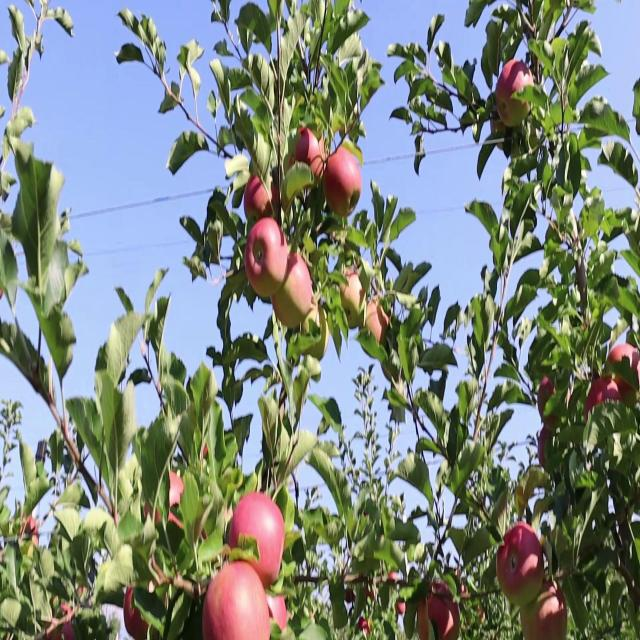apple: (232, 490, 288, 590), (204, 561, 268, 639), (500, 526, 546, 610), (272, 248, 315, 332), (244, 220, 288, 299), (324, 149, 364, 220), (496, 63, 535, 130), (604, 341, 640, 409), (424, 583, 463, 639), (416, 590, 460, 639), (360, 298, 391, 357), (537, 583, 569, 639), (300, 305, 329, 364), (340, 270, 367, 331), (296, 127, 327, 180), (584, 376, 616, 425), (124, 583, 151, 639), (616, 348, 640, 411), (244, 177, 276, 224), (520, 591, 542, 638), (540, 376, 559, 421), (152, 554, 174, 592), (268, 597, 288, 638), (540, 426, 556, 471), (416, 597, 431, 639), (344, 575, 363, 606), (172, 469, 185, 514), (364, 575, 379, 606), (64, 604, 76, 639), (44, 618, 63, 639), (396, 597, 408, 620), (360, 618, 372, 638)
